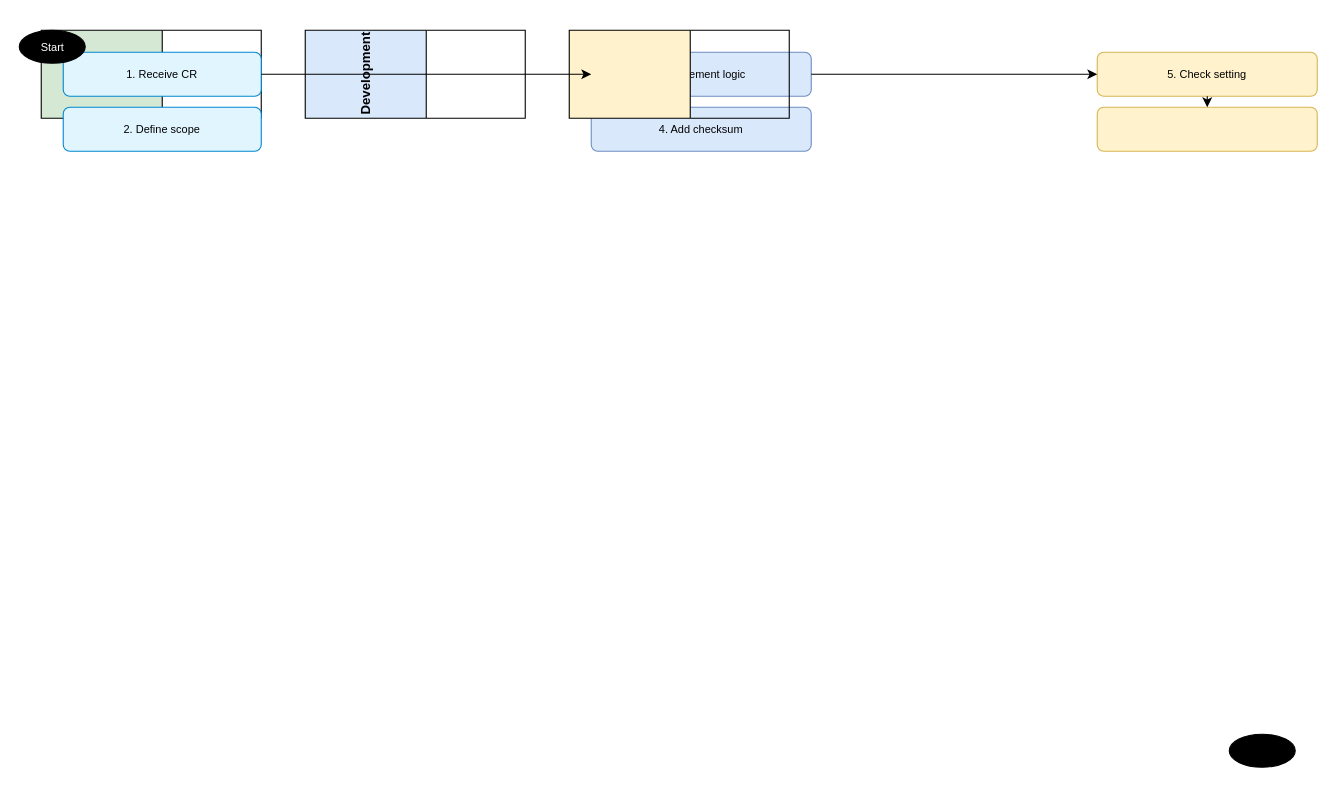
Image size: 1337x787. Some labels were removed from this diagram. Here are the shapes that lost their labels. From the top down, the box of each, then its label:
(40, 29, 261, 118): Business Analyst
(568, 29, 789, 118): Pega Indexer
(1096, 106, 1317, 151): 6. Compare checksums
(1228, 733, 1295, 767): End
